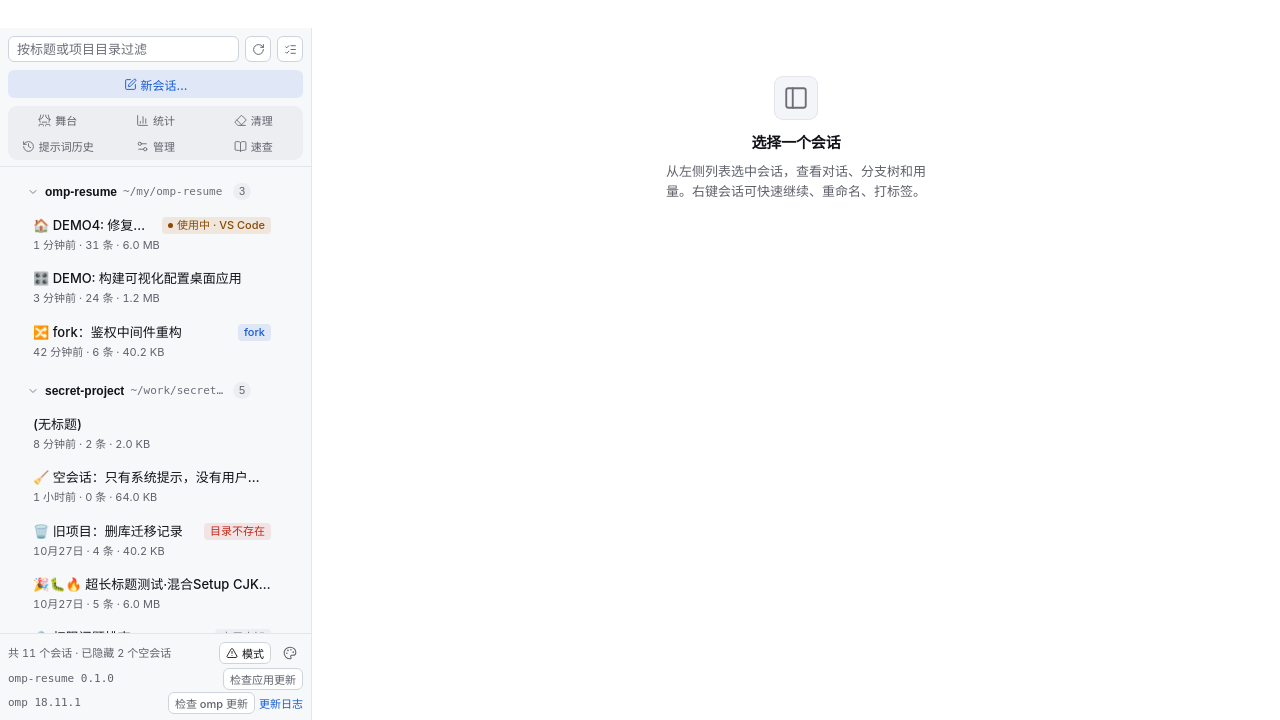
Test: 手动检查更新 › 侧栏按钮：检查失败→报错提示
Click the button "检查应用更新": coordinates (263, 679) [223,668,303,690]
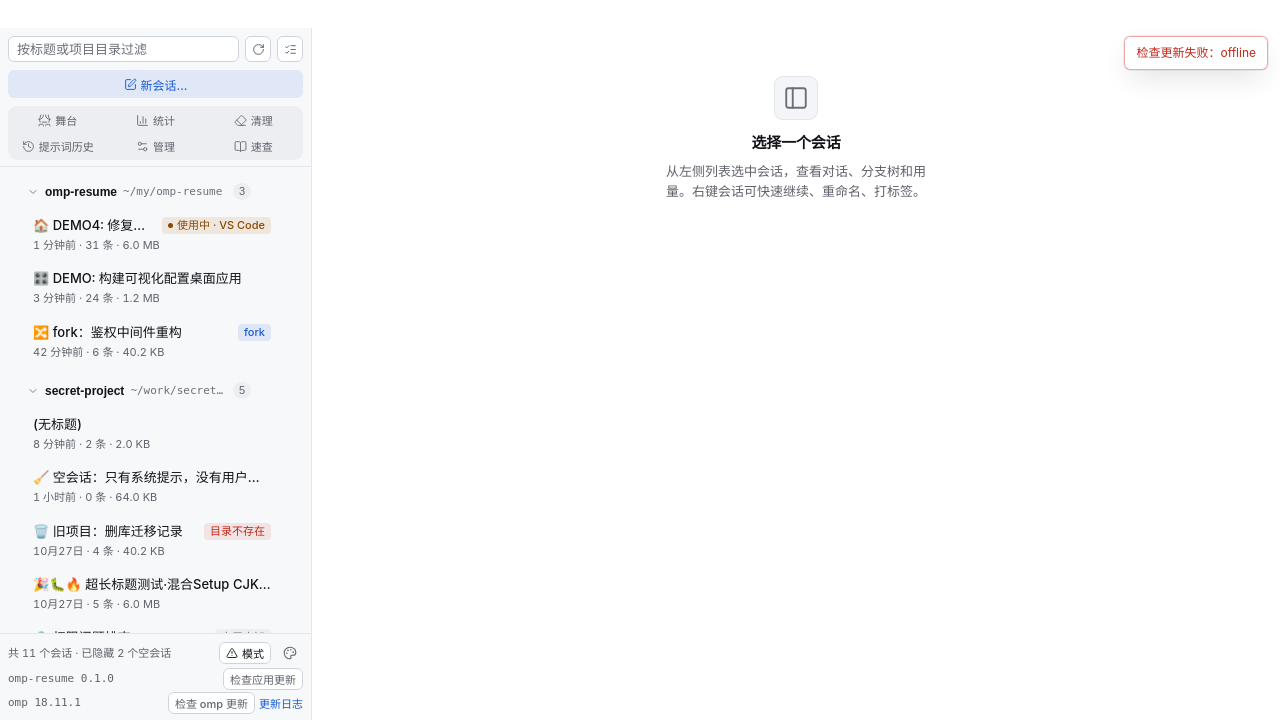
Expected: the text "检查更新失败：offline" is shown, [1124,36,1268,70]
